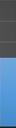bar: (0, 54, 16, 62)
